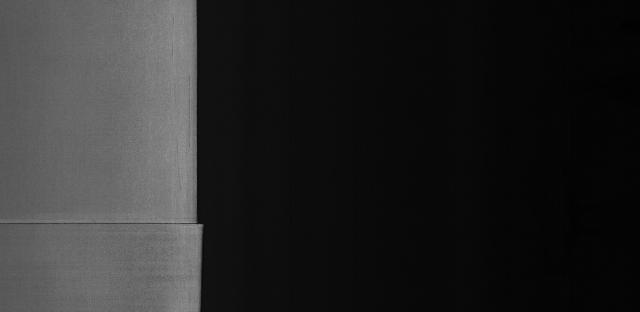welding_line: (1, 209, 218, 241)
